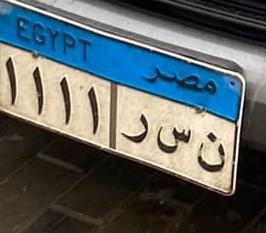1: (75, 71, 113, 142), (51, 70, 76, 125), (23, 67, 47, 118), (1, 52, 21, 108)
ر: (119, 114, 151, 147)
س: (148, 120, 192, 155)
ن: (184, 128, 234, 166)
